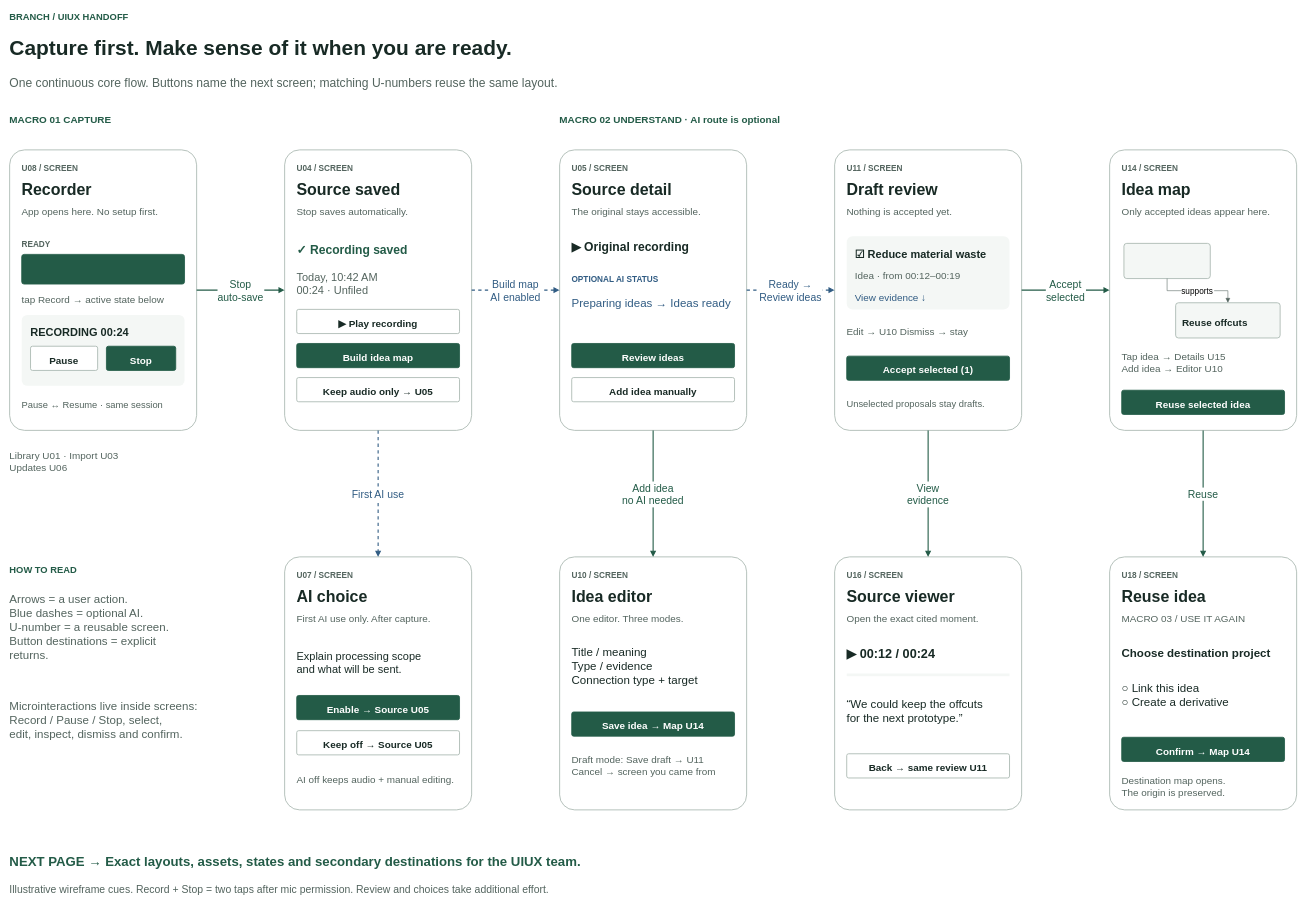
Some shapes in this 1307 by 908 pixel diagram are drawn without their labels. Each missing label, with the box of its shape:
Reduce waste: (1123, 243, 1210, 279)
● Record: (21, 254, 185, 284)
